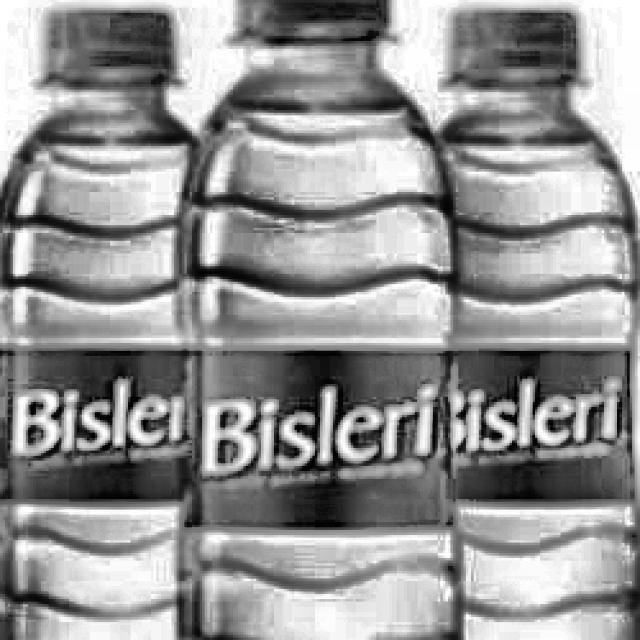bottle: (169, 0, 463, 640), (0, 7, 194, 640), (458, 0, 640, 640)
